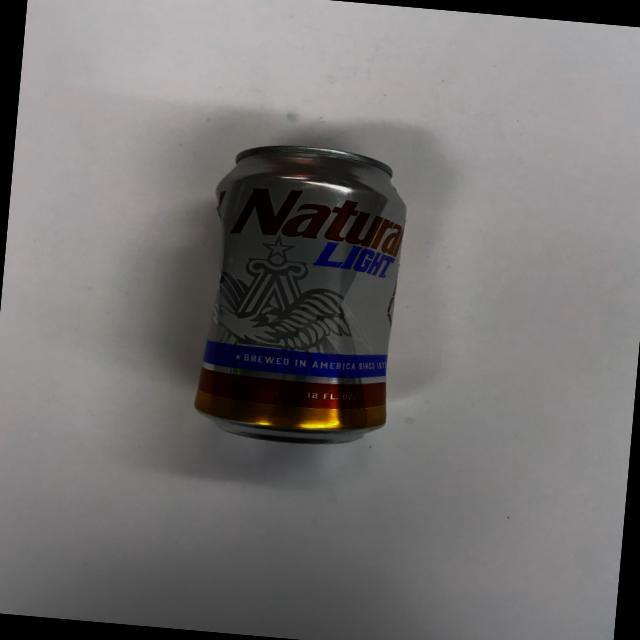metal: (179, 125, 427, 471)
